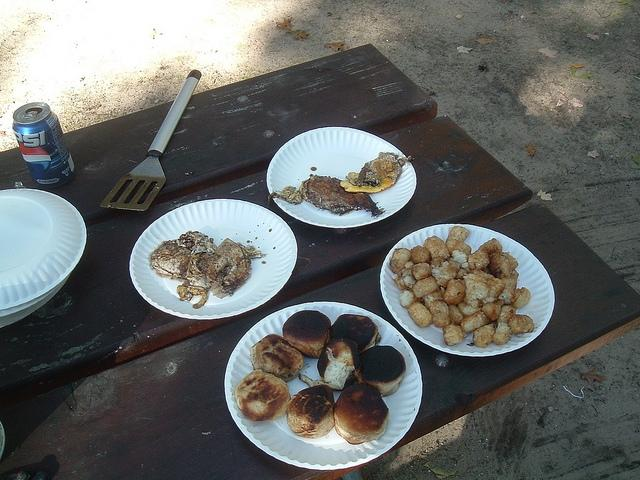potato: (432, 260, 462, 288), (498, 269, 519, 304), (460, 310, 491, 333), (423, 235, 451, 260), (442, 278, 467, 305), (408, 301, 433, 328), (486, 252, 511, 279), (412, 276, 441, 299), (472, 323, 496, 348), (429, 300, 450, 328), (464, 278, 490, 300), (389, 248, 411, 274), (509, 287, 532, 310), (450, 249, 472, 273), (508, 314, 534, 334), (421, 288, 443, 310), (442, 324, 463, 346), (496, 305, 517, 327), (479, 238, 503, 257), (456, 301, 482, 318), (481, 302, 502, 323), (468, 250, 490, 270), (399, 290, 423, 308), (445, 226, 470, 243), (493, 322, 512, 344), (410, 245, 432, 264), (393, 268, 412, 290), (446, 239, 472, 255), (412, 262, 432, 280), (448, 304, 463, 327), (488, 277, 505, 297), (504, 252, 519, 274), (403, 276, 417, 288), (404, 260, 414, 272)
